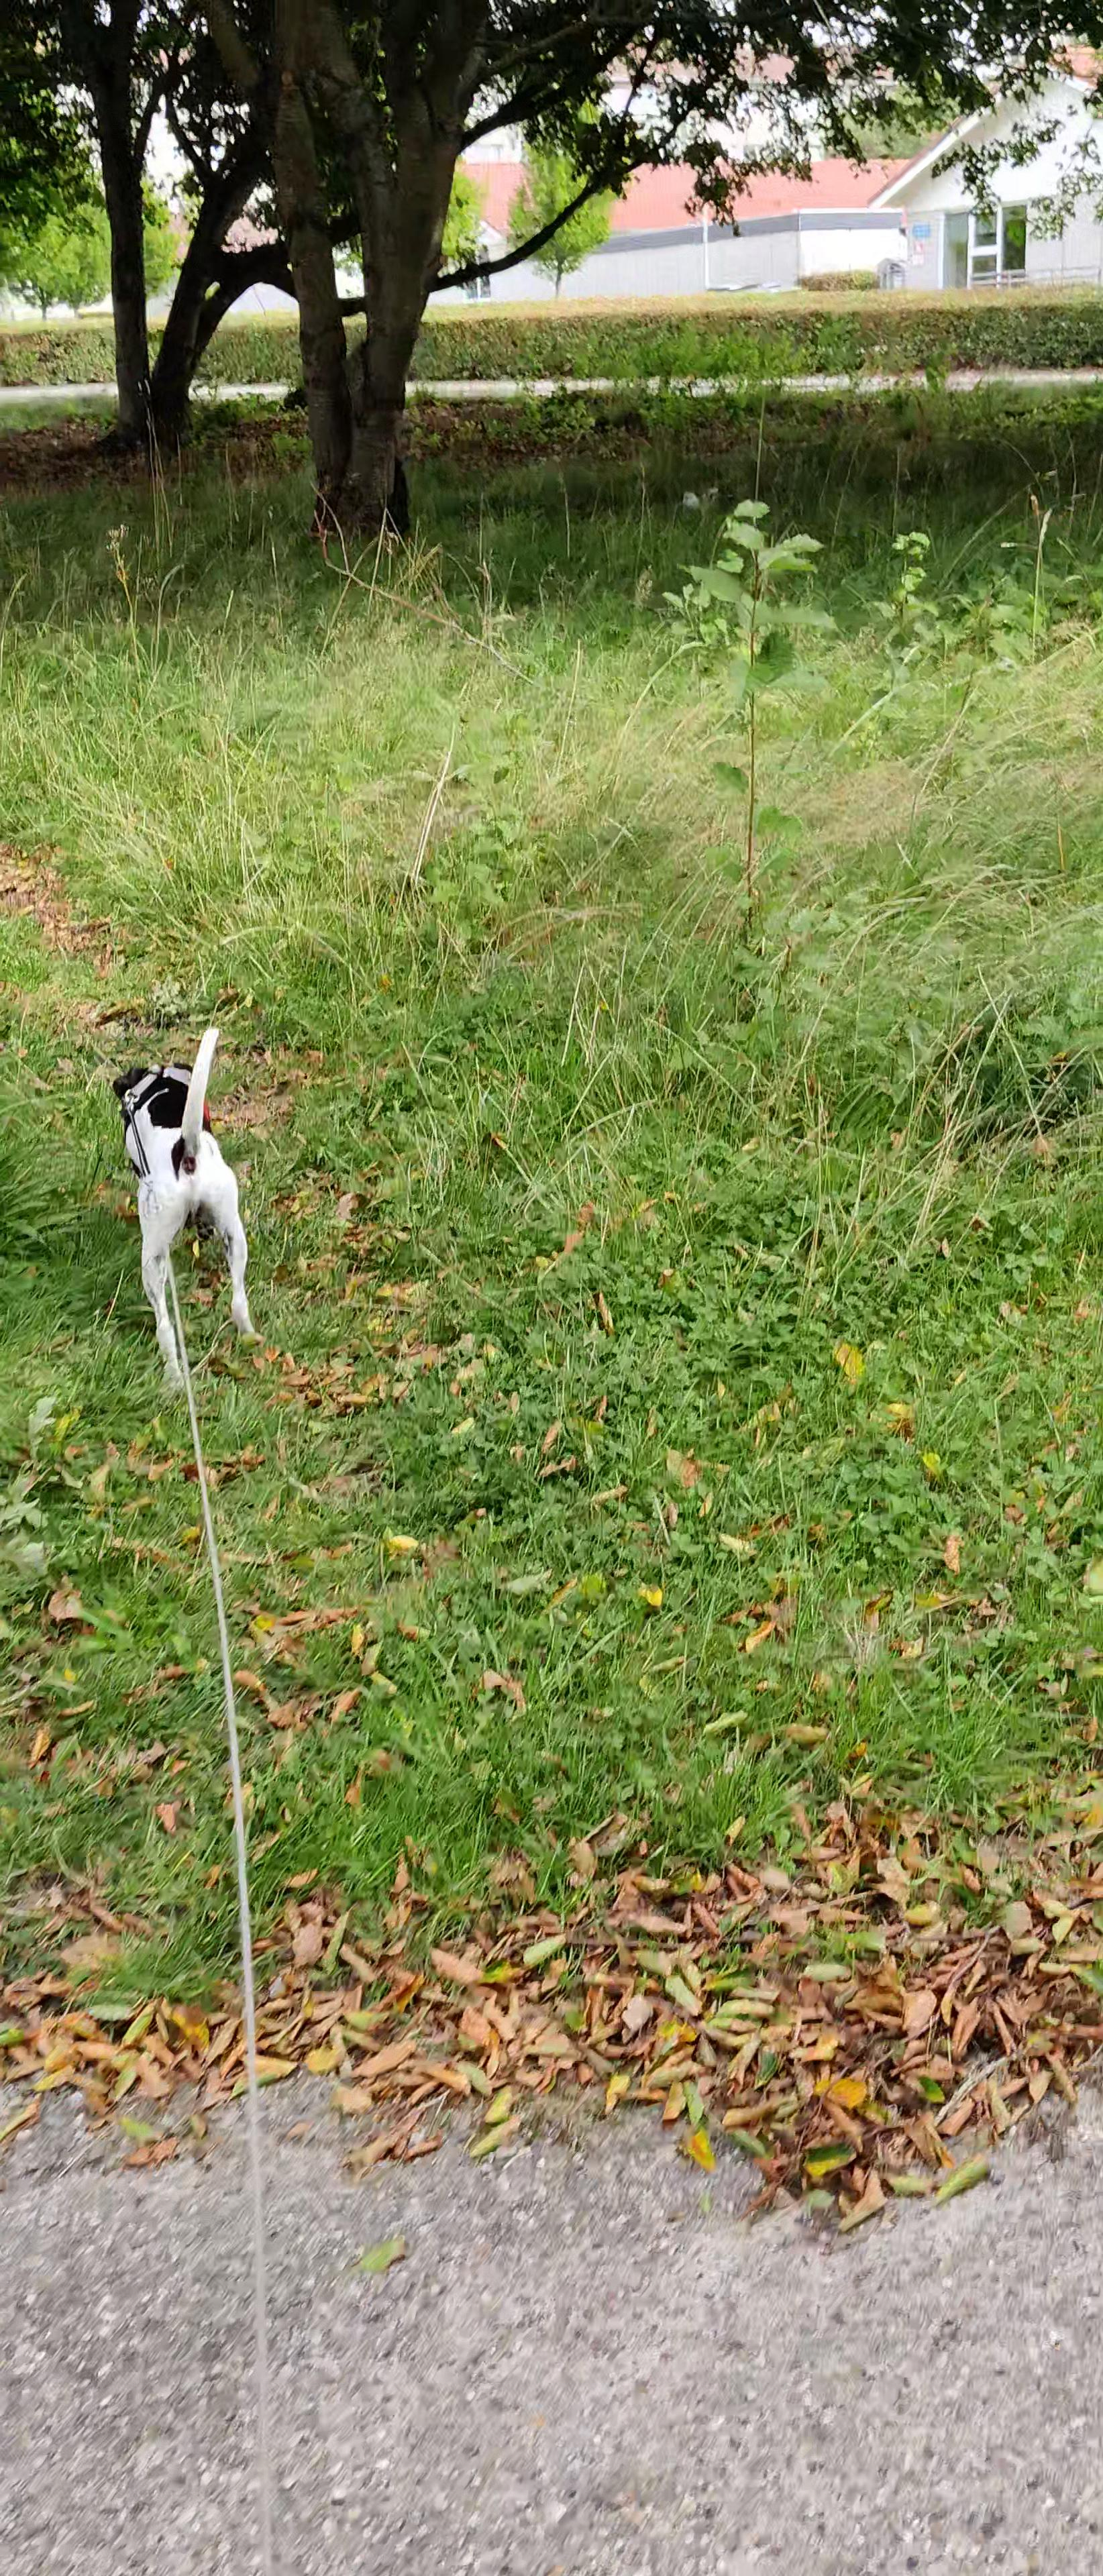Dog: (95, 1015, 273, 1401)
